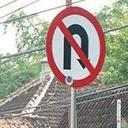NoVirarU: (44, 6, 108, 90)
